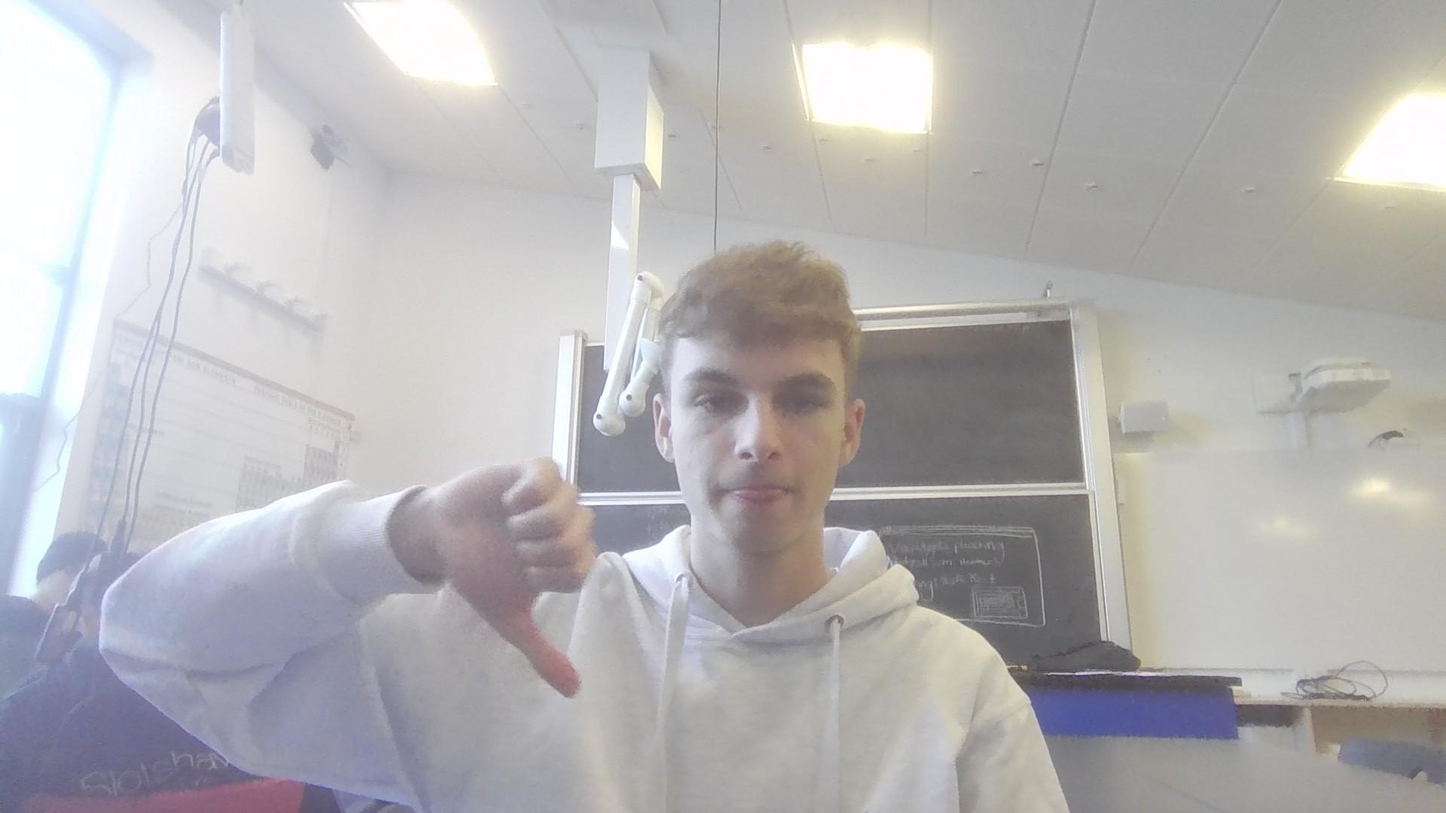thumbs down: (392, 441, 612, 714)
